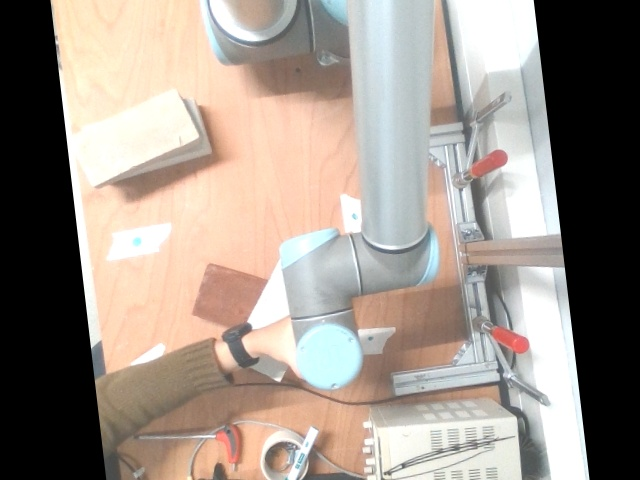brick: (71, 91, 196, 184)
